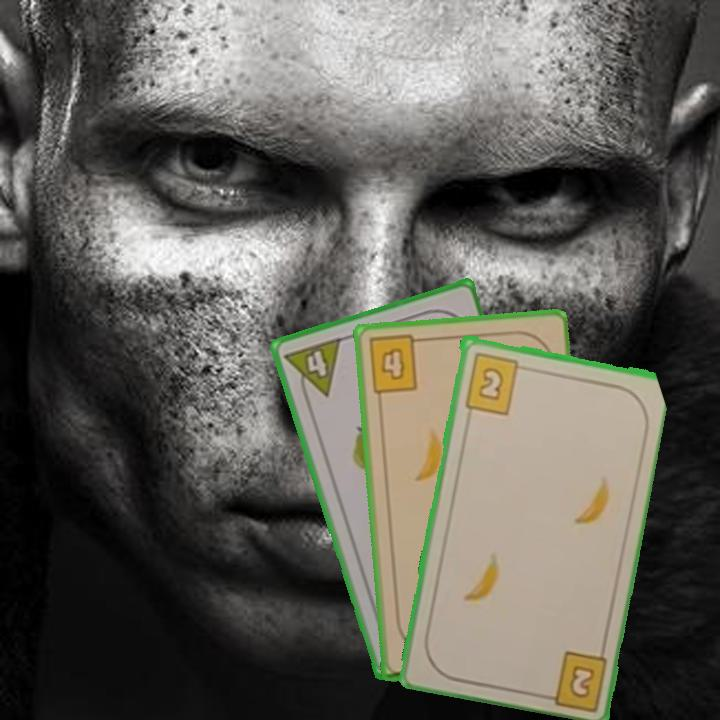2b: (460, 348, 530, 416), (565, 661, 598, 701)
4b: (365, 332, 427, 396)
4p: (281, 333, 344, 405)
